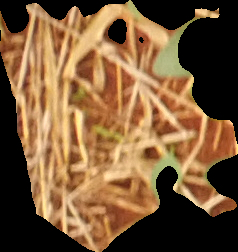soil: (1, 1, 237, 252)
